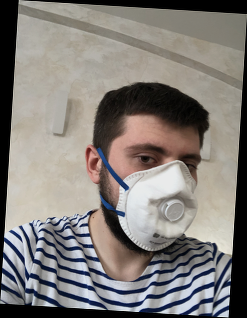with_mask: (115, 131, 200, 255)
